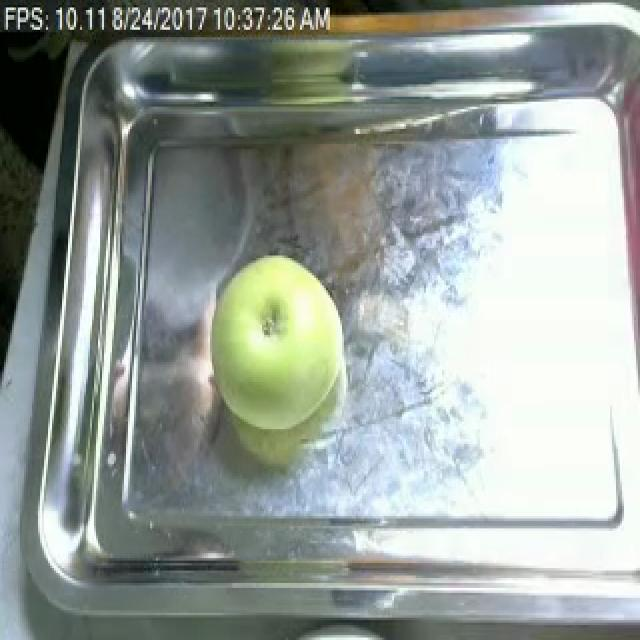50-_ripeness: (196, 252, 366, 444)
